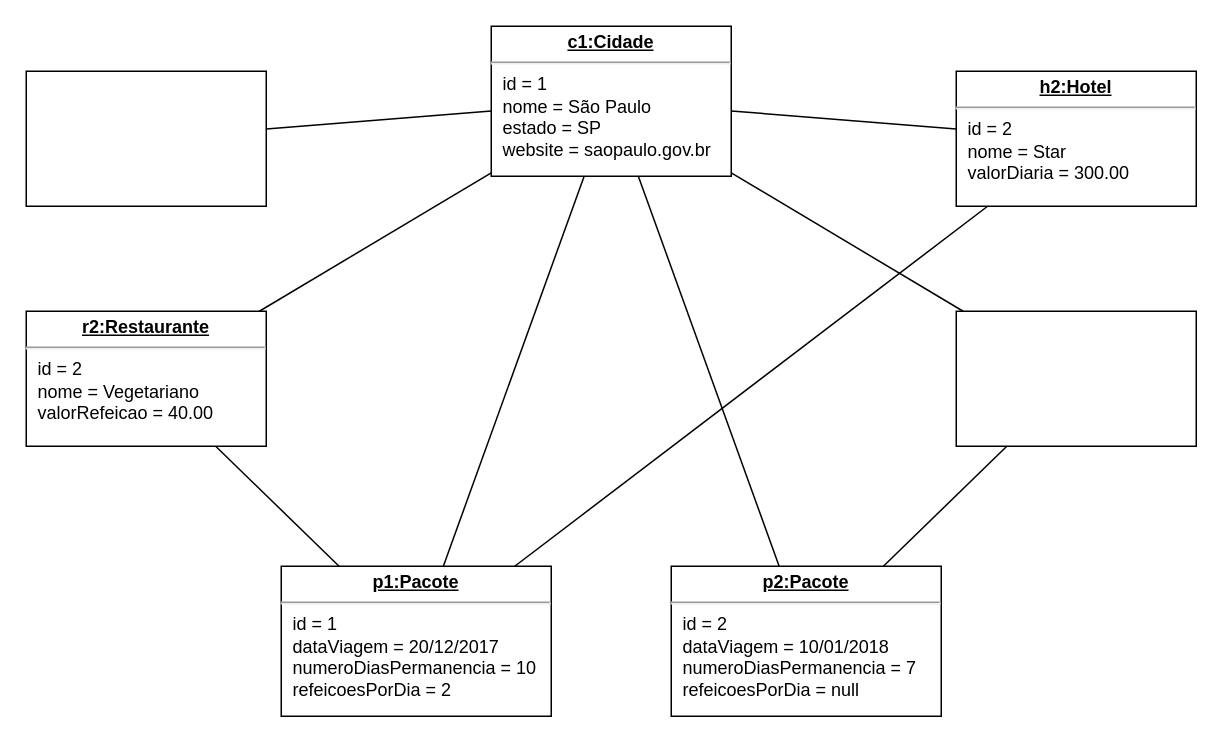
Image size: 1223x743. Some labels were removed from this diagram. Here are the shapes that lost their labels. From the top down, the centre of each, then its label:
At (145,138): "r1:Restaurante id = 1 nome = Sabor Legal valorRefeicao = 30.00".
At (1075,378): "h1:Hotel id = 1 nome = Ibis valorDiaria = 200.00".
